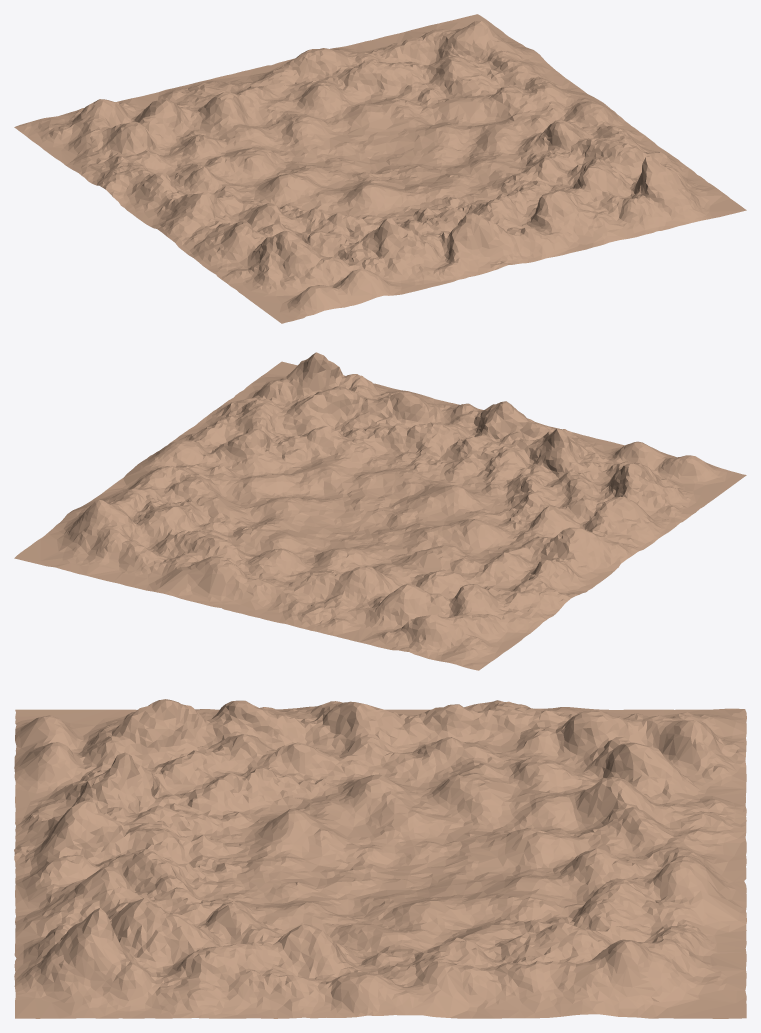
Rendered from ZLP_Terrain_A_2.FBX.
3 renders of one model, top to bottom at view 1: azimuth 30°, elevation 25°; view 2: azimuth 150°, elevation 25°; view 3: azimuth 270°, elevation 25°, orthographic. The views are drawn at different scales.
Visible parts, largest first — view 1: ZLP_Terrain_A_2; view 2: ZLP_Terrain_A_2; view 3: ZLP_Terrain_A_2.
Part boxes in pixels (left/top/right/bottom): ZLP_Terrain_A_2: left=14, top=14, right=746, bottom=323; ZLP_Terrain_A_2: left=14, top=352, right=746, bottom=670; ZLP_Terrain_A_2: left=14, top=699, right=746, bottom=1018.
Size of the model in its own units: 210796 by 22857 by 210673.
